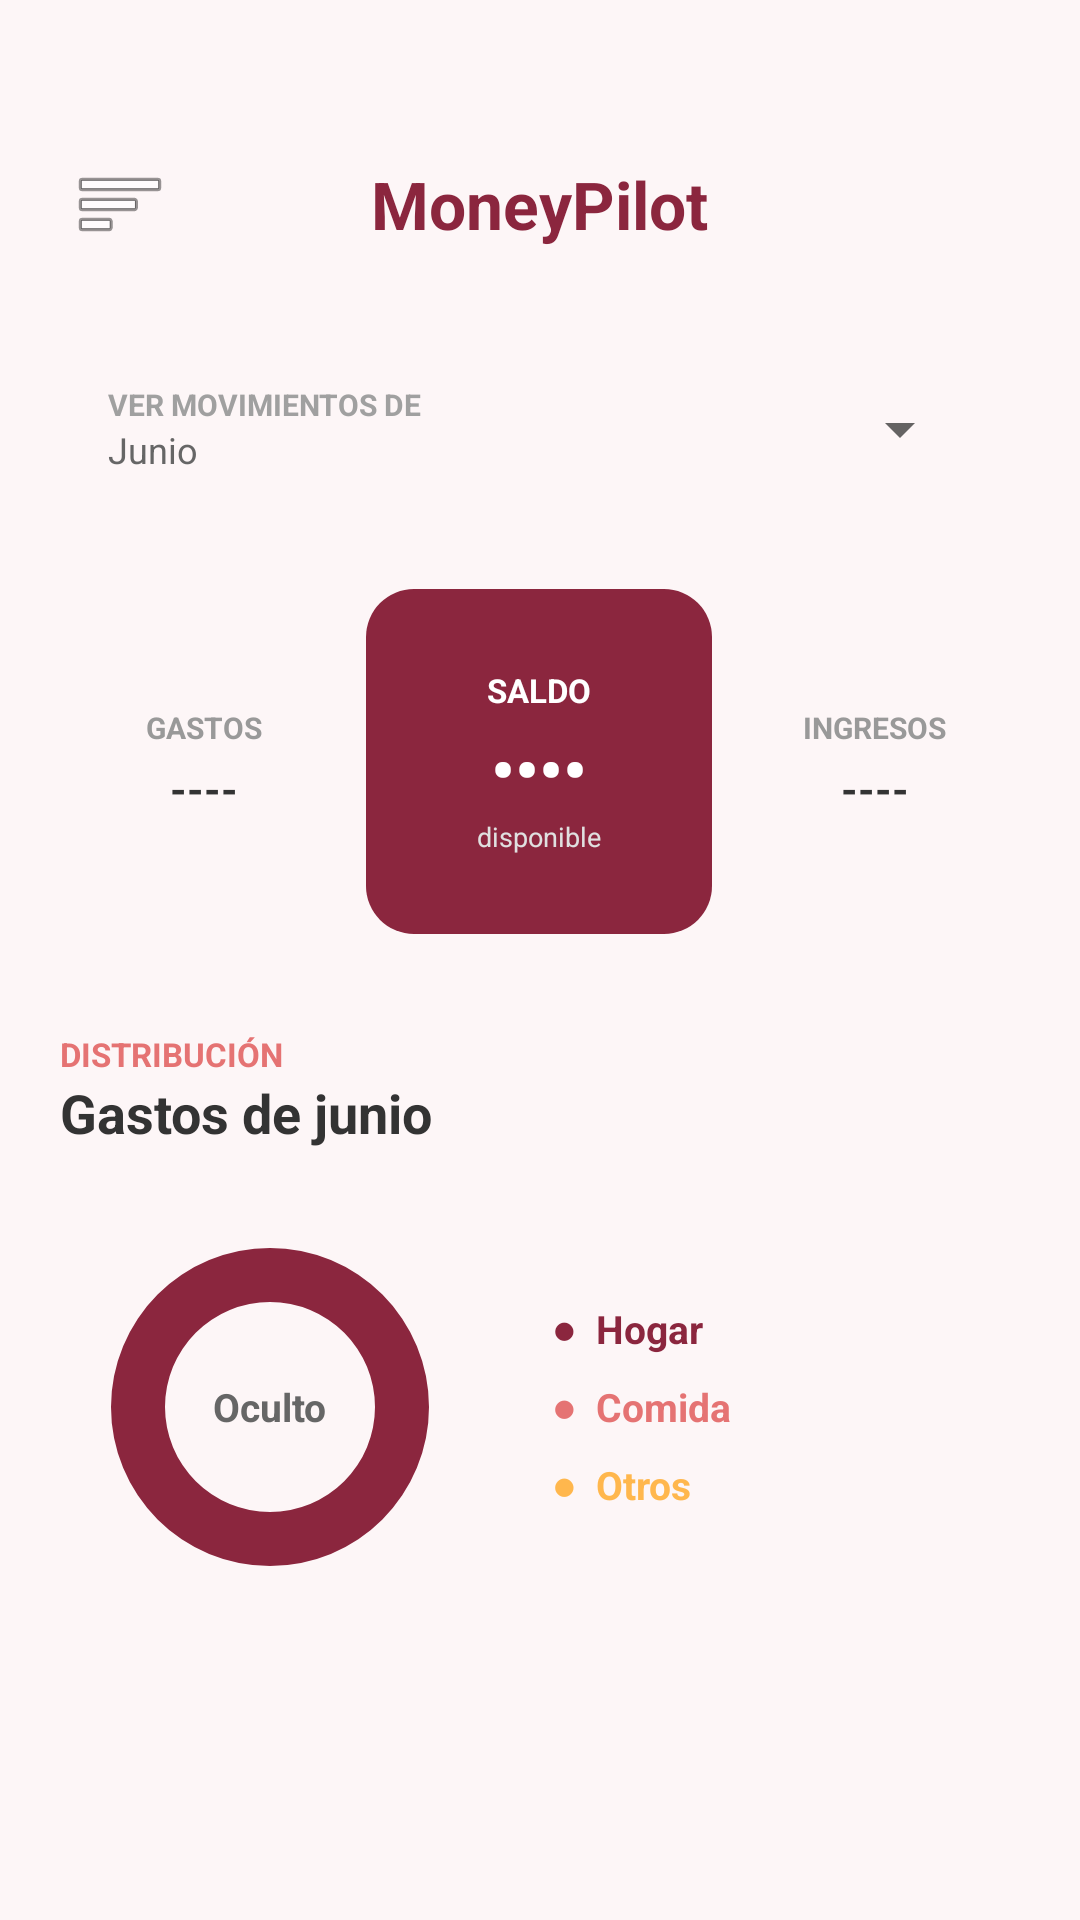

Screen size 1080*1920. Icon name, then its box in pixels as (x1, y1, x2, y2):
Menú: (79, 178, 161, 231)
